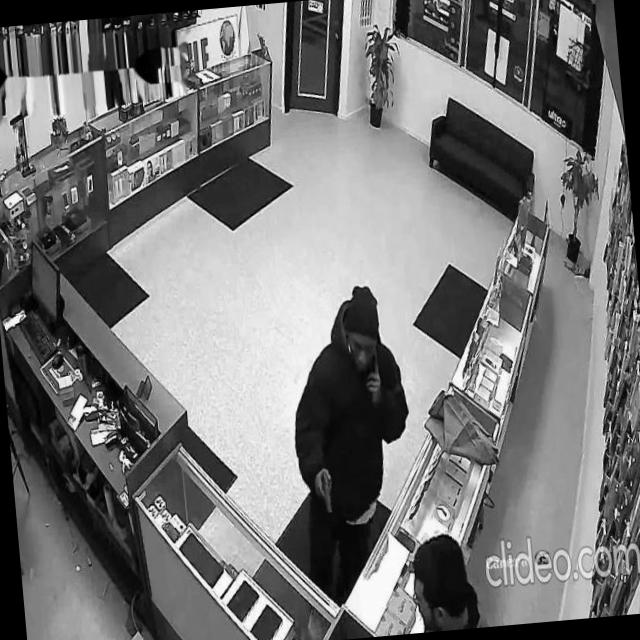gun: (318, 463, 335, 517)
person with a gun: (276, 280, 426, 610)
